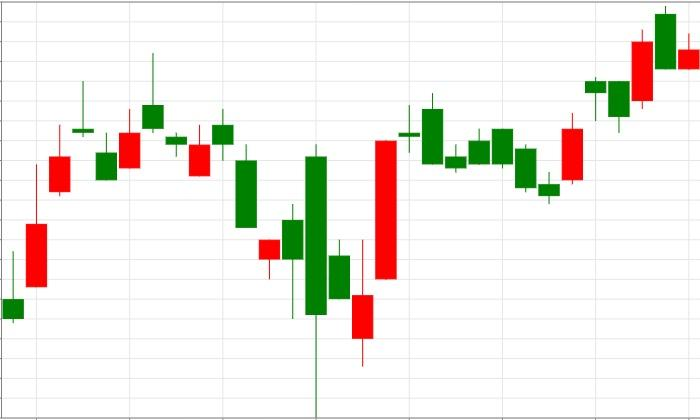evening_star_fall: (2, 81, 116, 324)
morning_star_rise: (398, 93, 583, 204)
